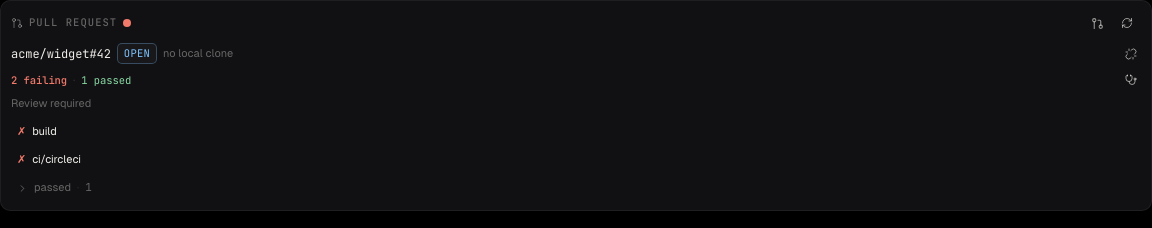
Scenario: PrCompanionSection › returns to the empty state once the pull request is unlinked
Click the button named "Unlink pull request" at (1131, 54), box [1121, 44, 1141, 64]
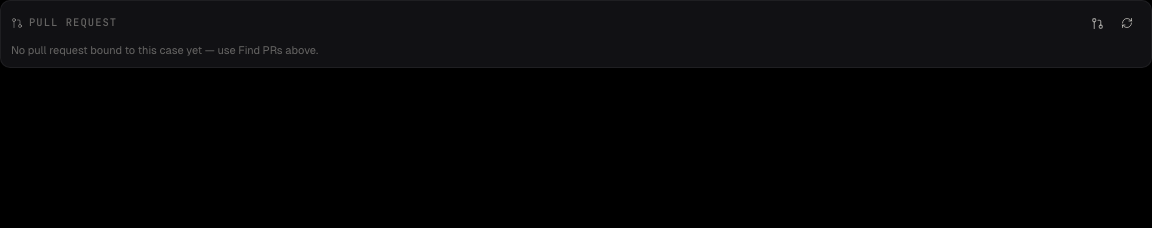
Result: the text "No pull request bound to this case yet — use Find PRs above." is shown at [11, 44, 318, 56]
